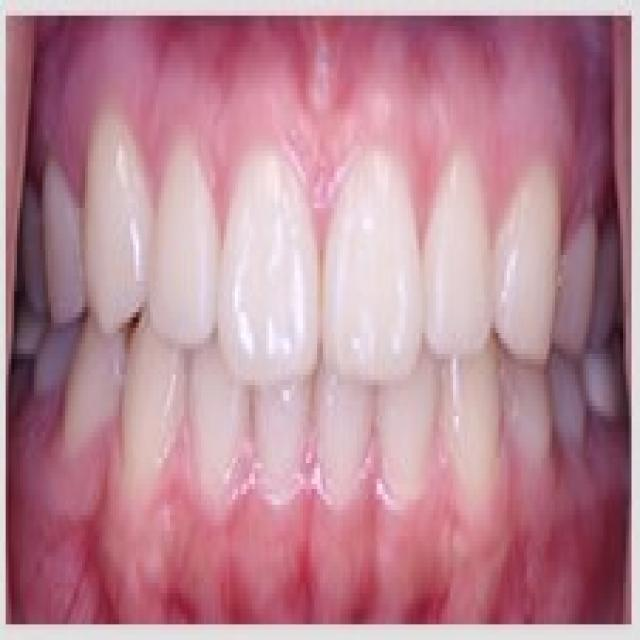tooth: (306, 94, 425, 390), (221, 151, 328, 375), (65, 120, 164, 333), (413, 109, 493, 359), (496, 172, 564, 369), (147, 156, 218, 338), (425, 338, 501, 505), (173, 338, 252, 494), (269, 380, 326, 541), (495, 354, 558, 499), (124, 328, 178, 468), (371, 390, 439, 489), (68, 317, 119, 437), (328, 359, 359, 500)
